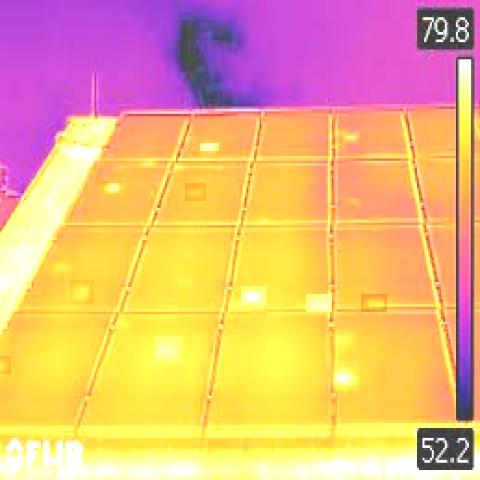fault: (332, 361, 360, 391), (154, 336, 183, 364), (70, 280, 94, 304), (241, 286, 268, 306), (361, 294, 388, 312), (306, 294, 332, 312), (185, 183, 206, 201), (102, 181, 122, 193), (343, 131, 359, 144), (0, 356, 11, 374), (200, 143, 219, 151)
